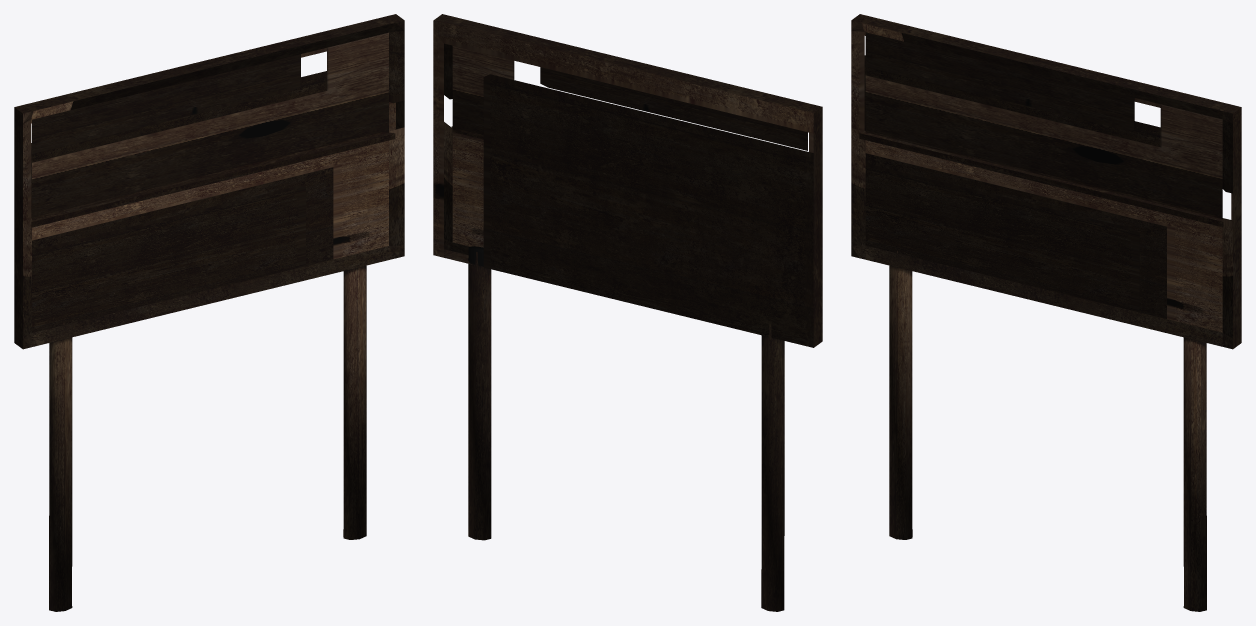
The model's file is obstacle_top.dae.
3 renders of one model, left to right at view 1: azimuth 30°, elevation 25°; view 2: azimuth 150°, elevation 25°; view 3: azimuth 330°, elevation 25°, orthographic.
Parts seen in each view (by area): view 1: Obstacle_Top, Poles; view 2: Obstacle_Top, Poles; view 3: Obstacle_Top, Poles.
Boxes of the visible parts, x1,y1,x2,y2 form: Obstacle_Top: (14,14,404,349); Poles: (49,251,366,611); Obstacle_Top: (433,14,822,347); Poles: (468,246,784,611); Obstacle_Top: (851,14,1241,349); Poles: (889,251,1206,611).
Size of the model in its own units: 5.72 by 0.2867 by 7.28.
